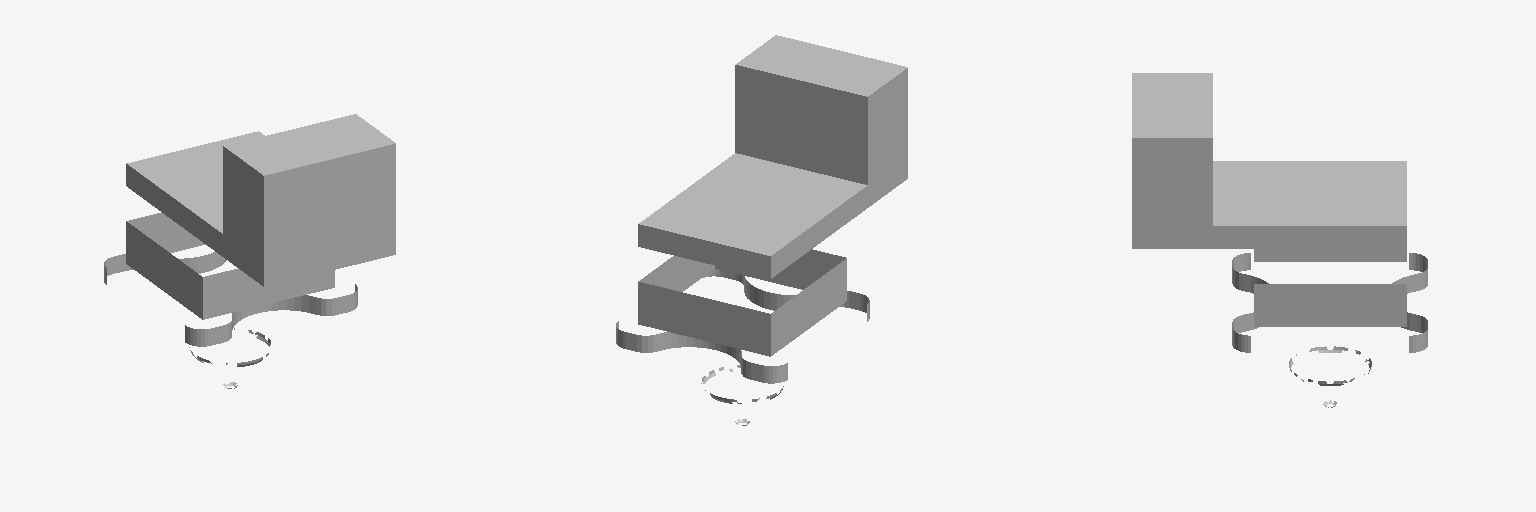
Rendered from 180709 Lower LegC.obj.
3 renders of one model, left to right at view 1: azimuth 30°, elevation 25°; view 2: azimuth 150°, elevation 25°; view 3: azimuth 270°, elevation 25°, orthographic.
Size of the model in its own units: 0.1025 by 0.1738 by 0.1552.